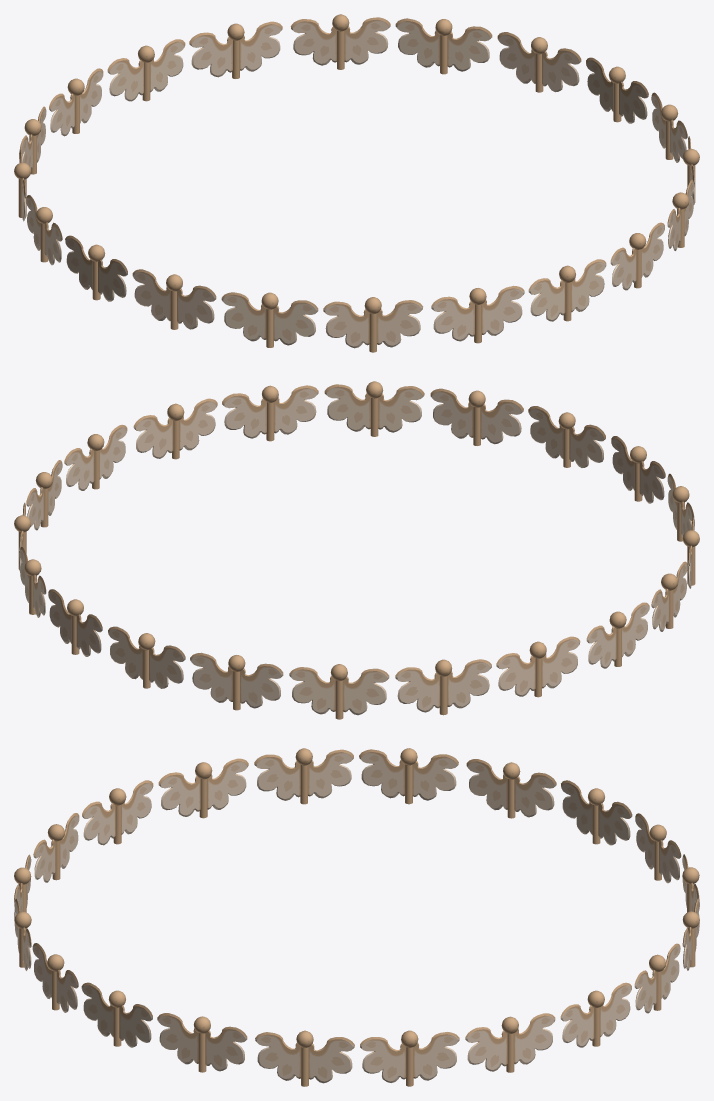
Rendered from FenceQTE.fbx.
3 views of the same model, one above another, from view 1: azimuth 30°, elevation 25°; view 2: azimuth 150°, elevation 25°; view 3: azimuth 270°, elevation 25° (orthographic).
Visible parts, largest first — view 1: QTE; view 2: QTE; view 3: QTE.
Boxes of the visible parts, bbox=[...] form: QTE: bbox=[14, 14, 699, 352]; QTE: bbox=[14, 381, 699, 719]; QTE: bbox=[14, 748, 699, 1086].
Bounding box in the file's own units: 2469 × 213 × 2469.
Materials: 1 (1 with a texture image).
